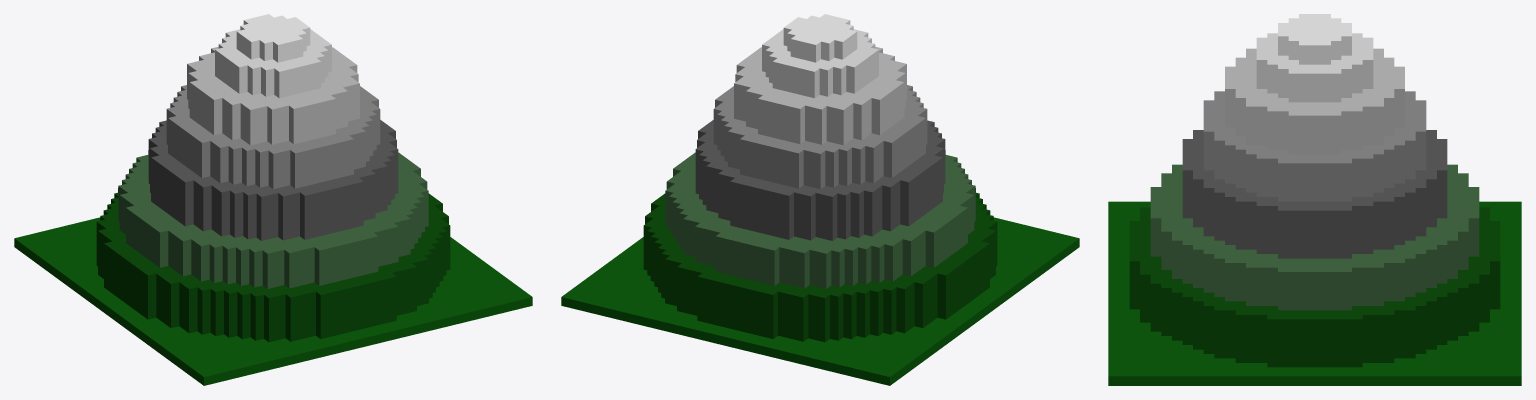
File: Montagne.obj
The picture shows the model from 3 angles, left to right: view 1: azimuth 30°, elevation 25°; view 2: azimuth 150°, elevation 25°; view 3: azimuth 270°, elevation 25°; orthographic projection. The views are drawn at different scales.
Bounding box in the file's own units: 3.9 × 2.8 × 3.9.
1 material, 1 textured.
